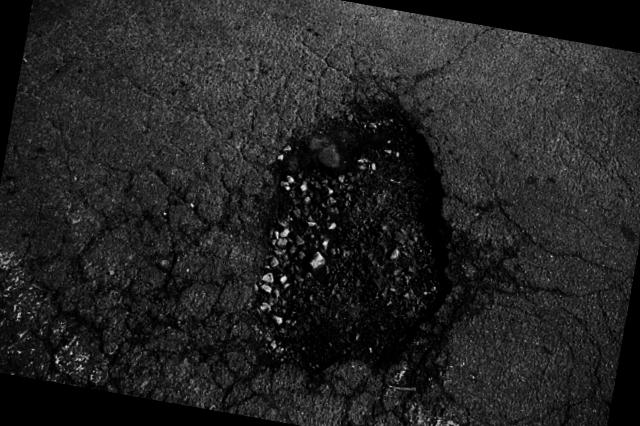Pothole: (221, 60, 492, 398)
